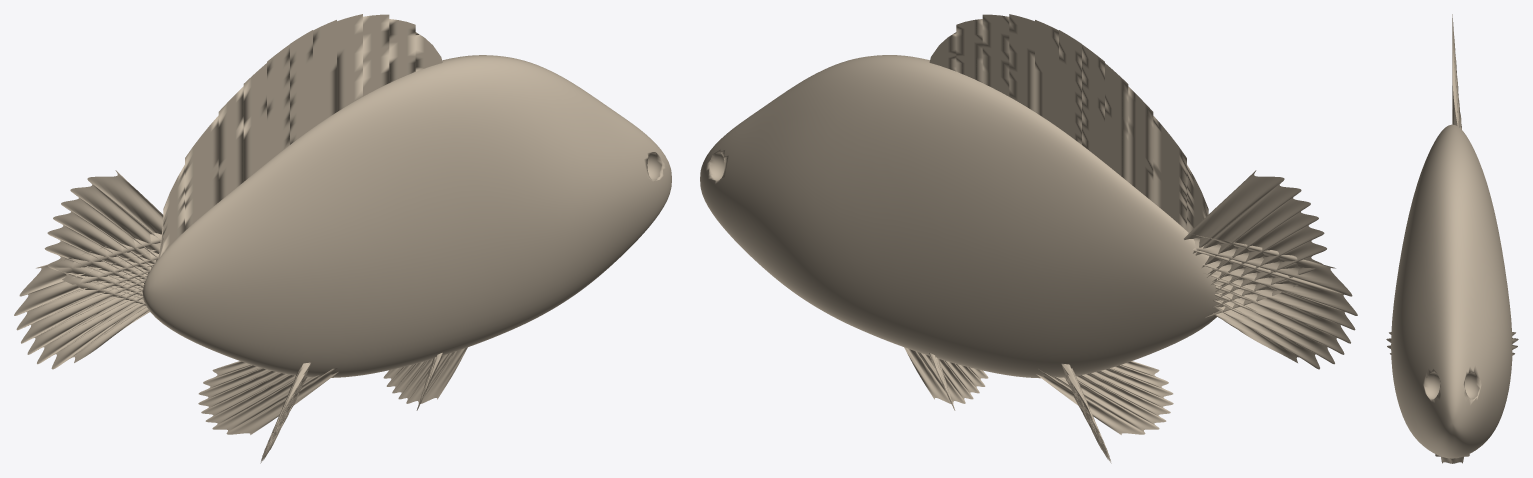
Rendered from 3dcodebench_Fish_seed0_L2_Q1__kimi_k3.glb.
3 renders of one model, left to right at view 1: azimuth 30°, elevation 25°; view 2: azimuth 150°, elevation 25°; view 3: azimuth 270°, elevation 25°, orthographic. The views are drawn at different scales.
Parts seen in each view (by area): view 1: object; view 2: object; view 3: object.
Part boxes in pixels (x1,y1,x2,y2): object: (14, 14, 671, 463); object: (700, 14, 1357, 463); object: (1386, 14, 1518, 463).
Bounding box in the file's own units: 1.55 × 0.9168 × 0.2828.
